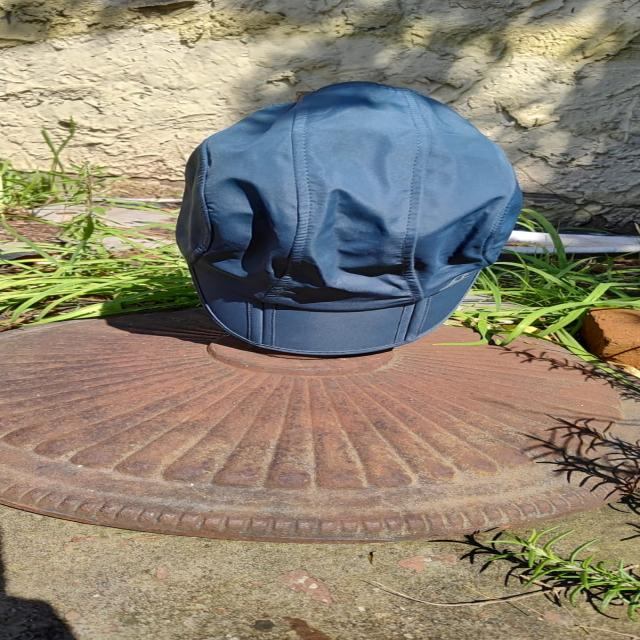Gorra: (151, 76, 543, 365)
